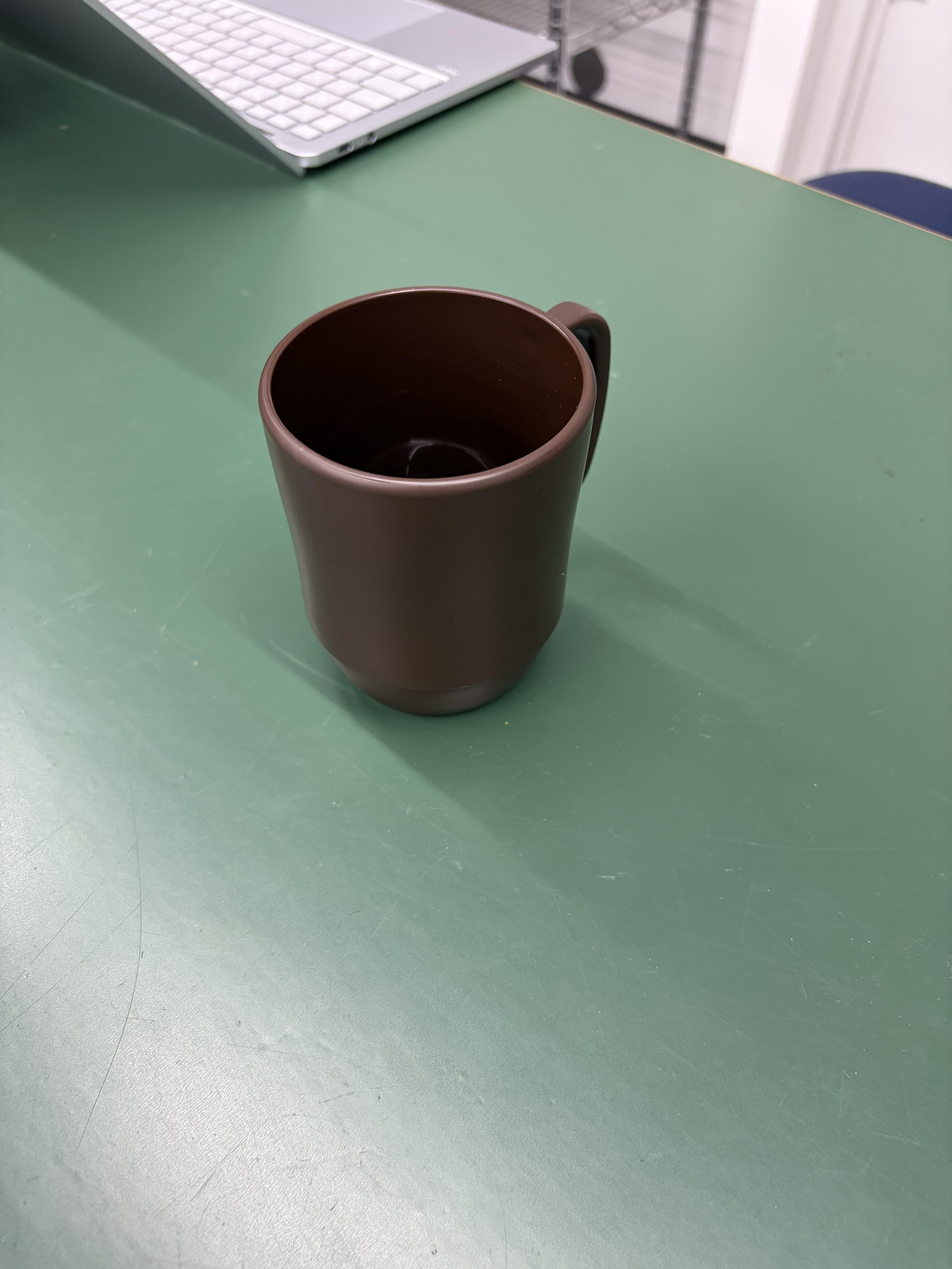mug-real100-3d100: (259, 287, 610, 715)
